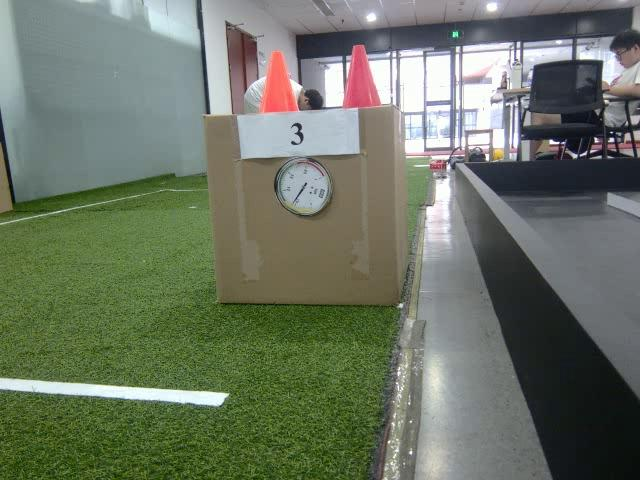3: (288, 120, 306, 146)
Dashboard: (272, 156, 336, 218)
orange_barrel: (256, 49, 301, 114)
red_barrel: (338, 43, 383, 108)
ssi: (317, 186, 325, 200)
